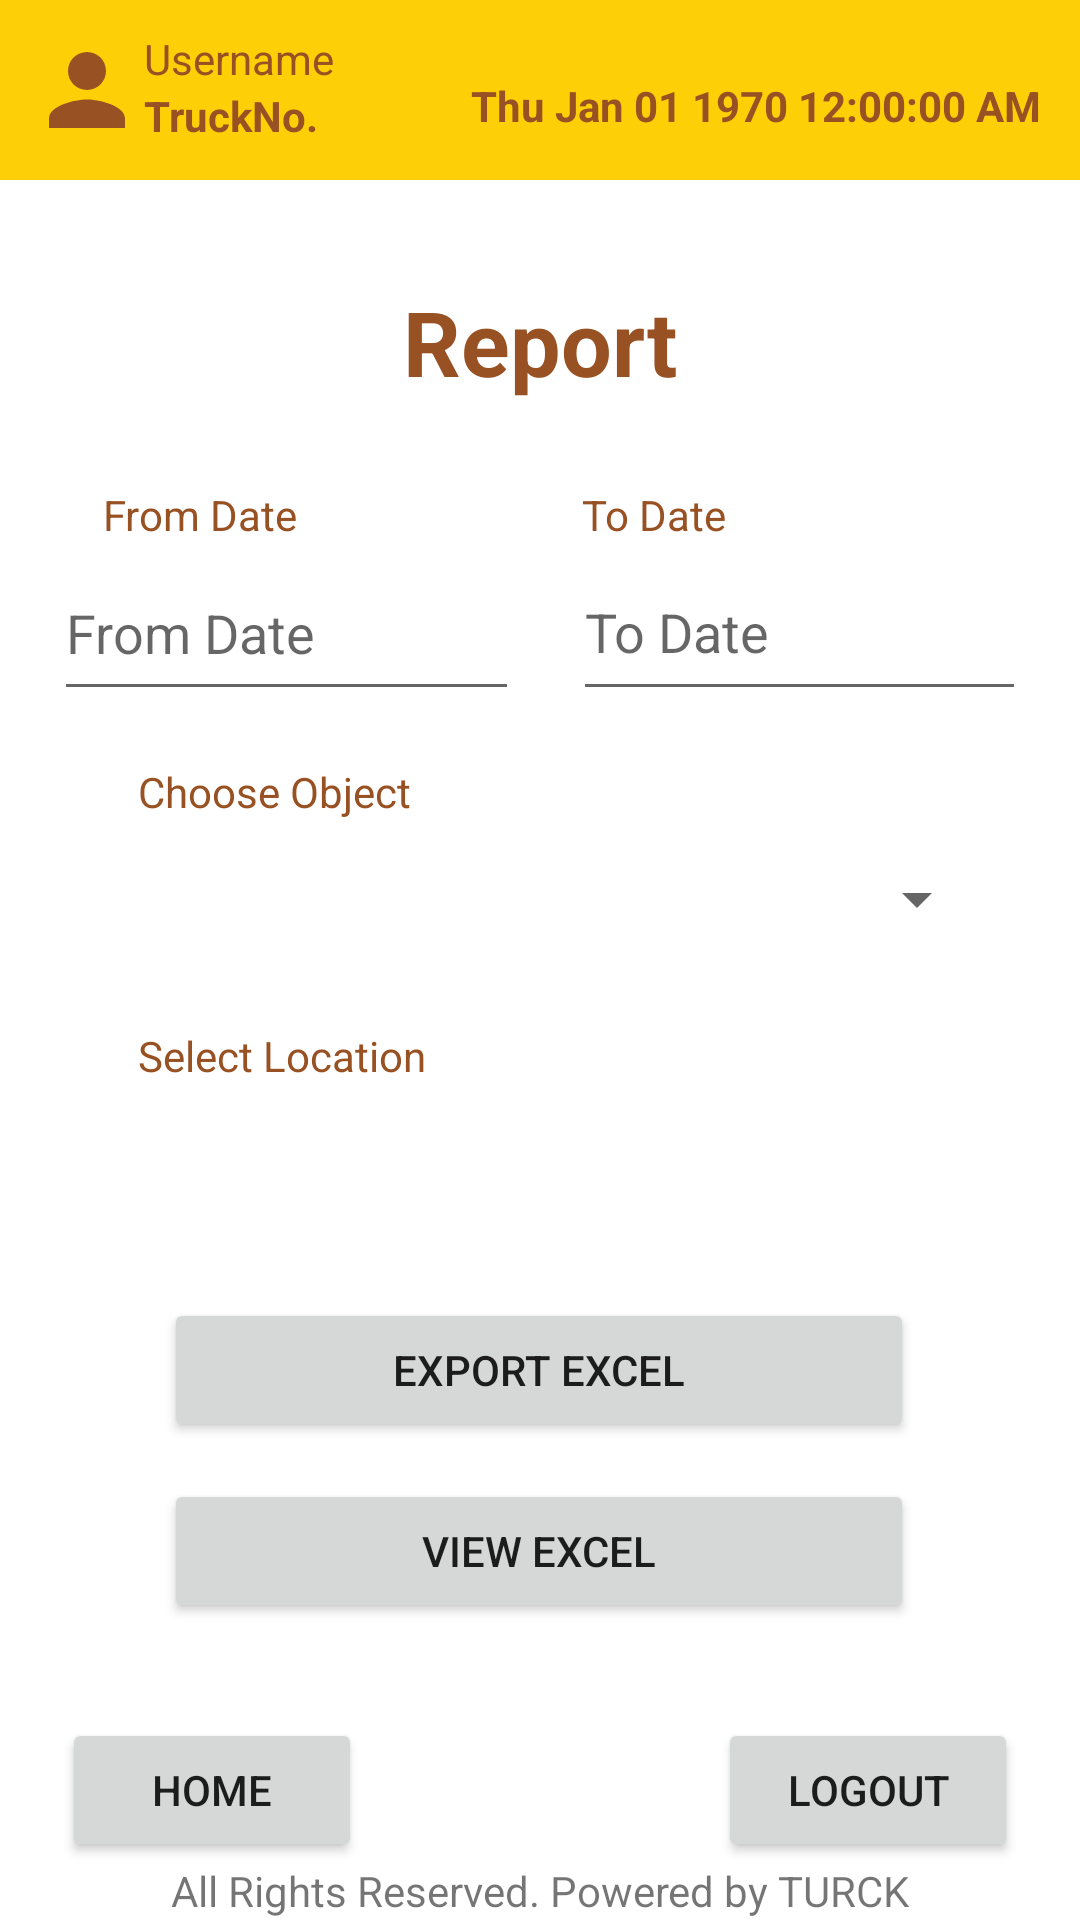

Icon bounding boxes for this 1080×1920 phone screenshot, format (x1,y1,x2,y2):
person: (49,52,125,128)
